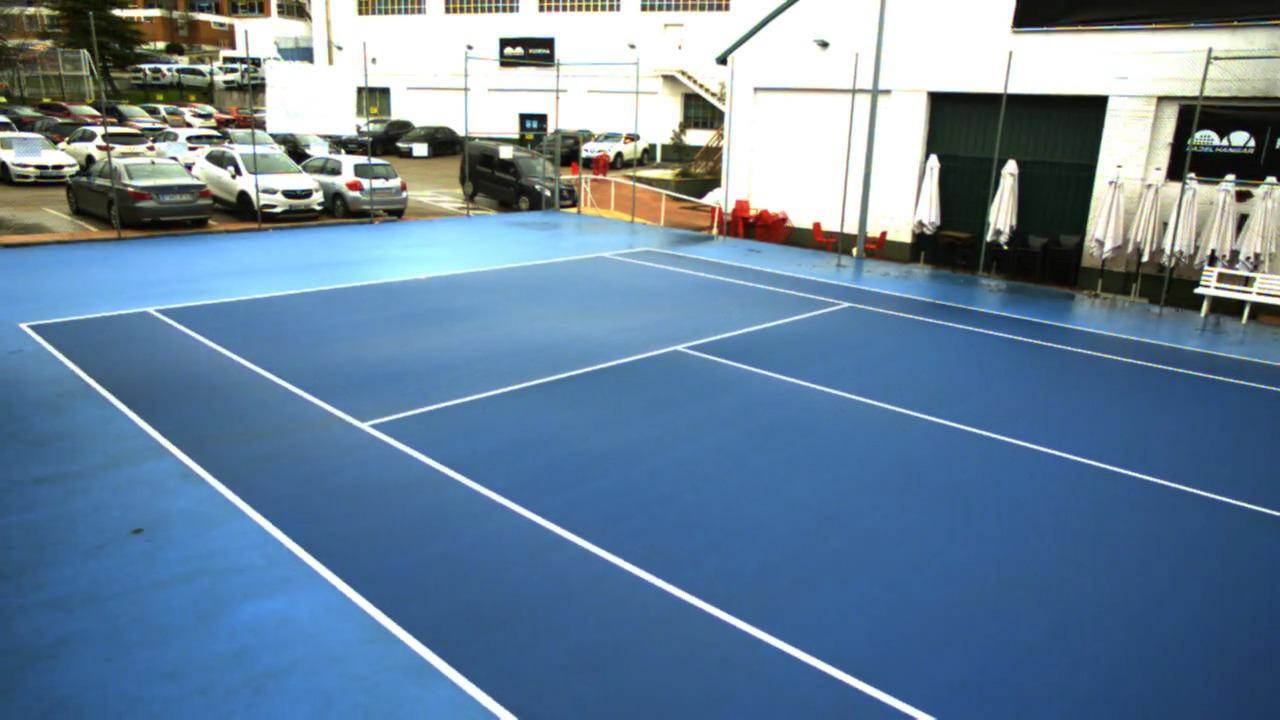cancha_tenis: (149, 254, 1280, 720)
point_f2: (593, 245, 623, 267)
point_fc1: (137, 297, 168, 320), (414, 272, 429, 285)
point_i1: (357, 410, 386, 443)
point_i2: (831, 293, 856, 314)
point_ic1: (668, 335, 697, 361)
